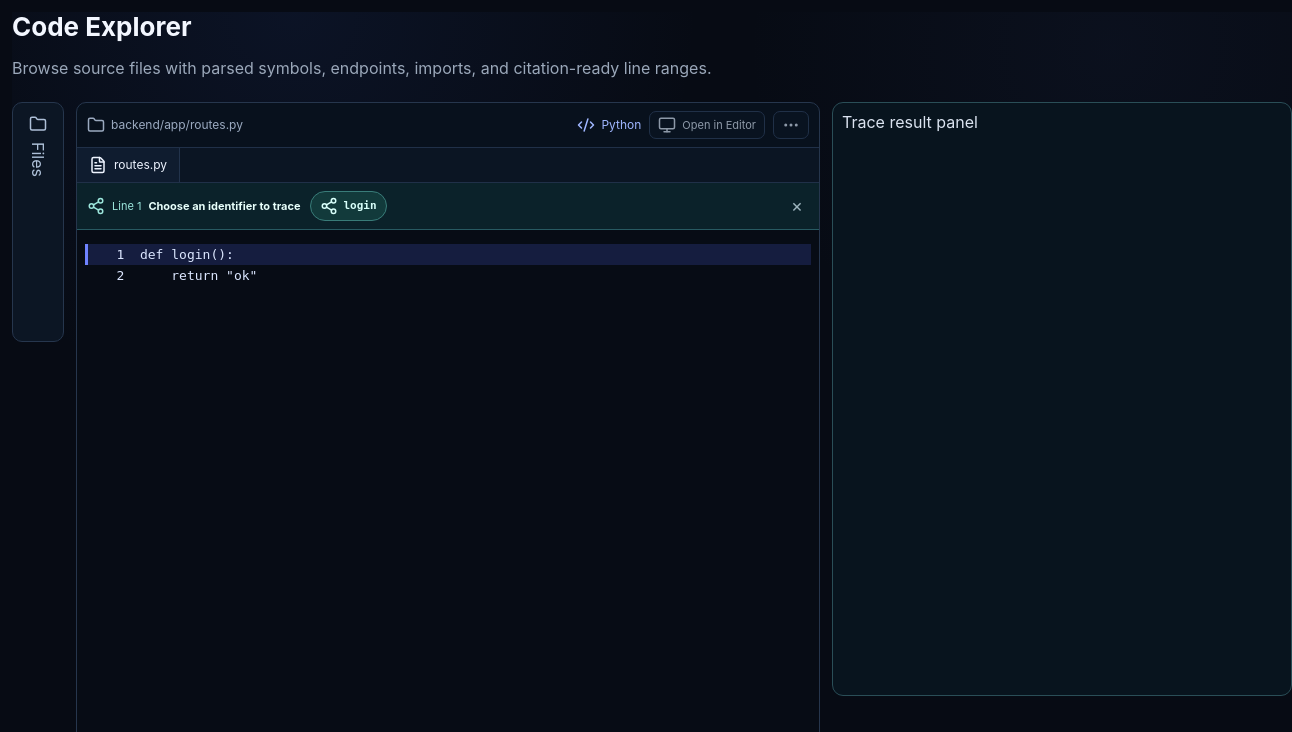
Test: CodeExplorerPage › keeps source visible while presenting an embedded value trace
Expected: the element named "Embedded value trace" is shown, [832,102,1291,696]
Expected: the text "Trace result panel" is shown, [842,112,978,132]
Click the button with aria-label "Expand files panel".
click(38, 222)  # box [13,103,63,341]
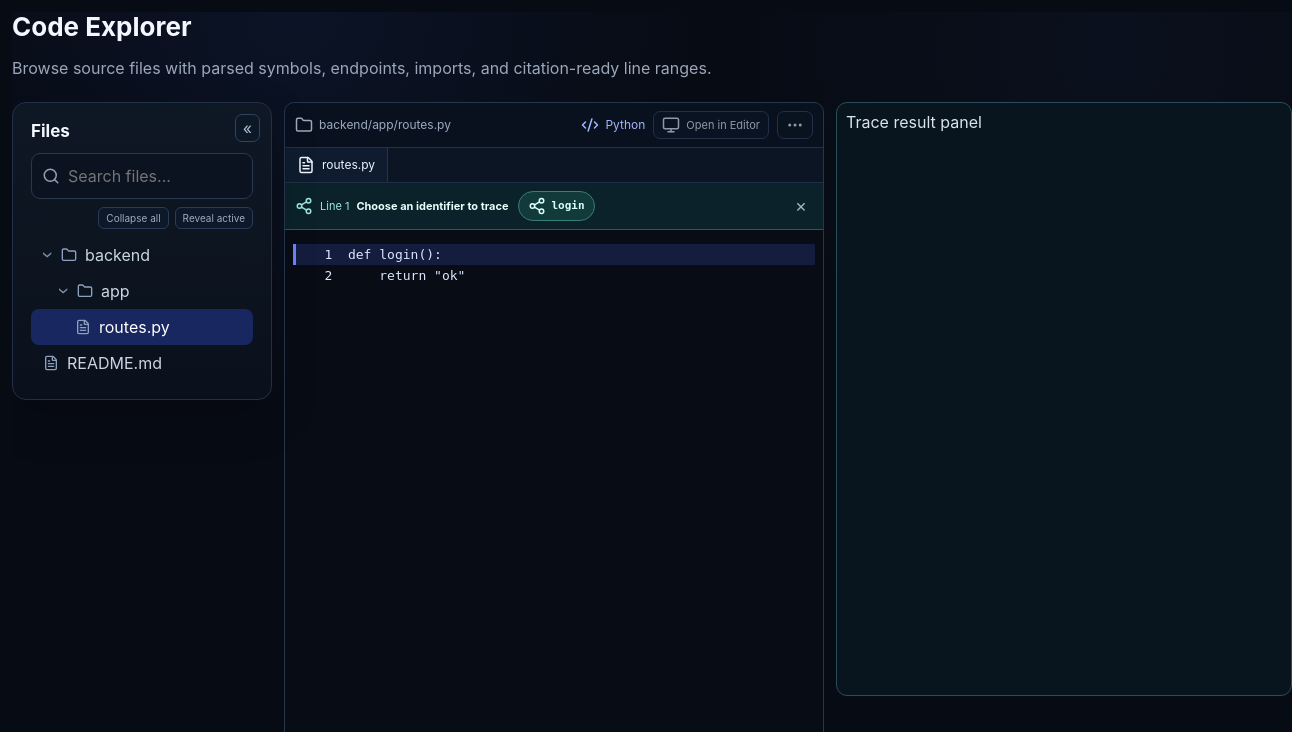
Expected: the button named "Collapse files panel" is shown, [235,114,260,142]
Expected: the element named "Repository files" is shown, [31,237,253,381]
